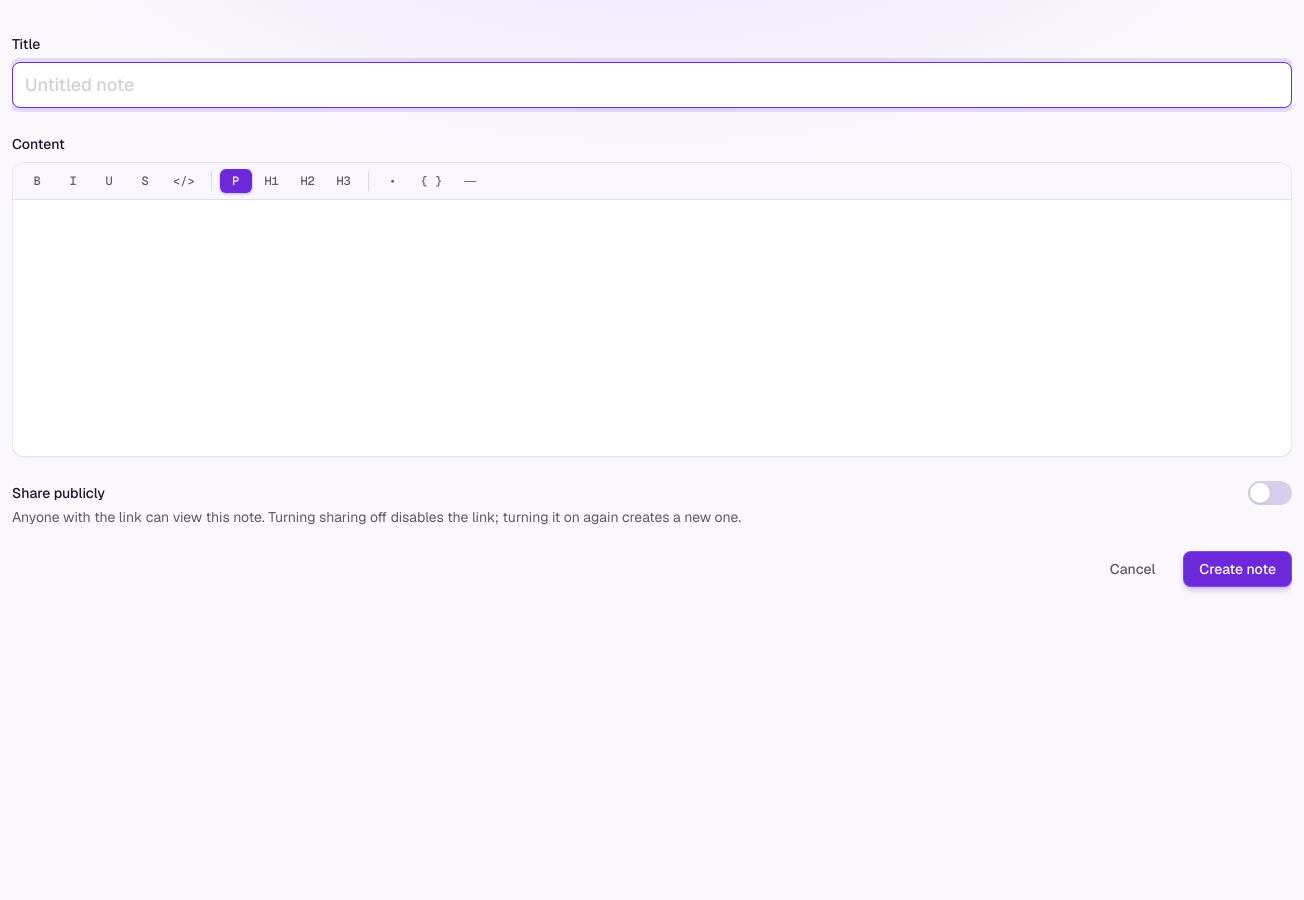
Scenario: NoteForm (create) › shows returned errors and keeps the rejected values
Click the button "Create note" at (1238, 569), box [1183, 551, 1292, 587]
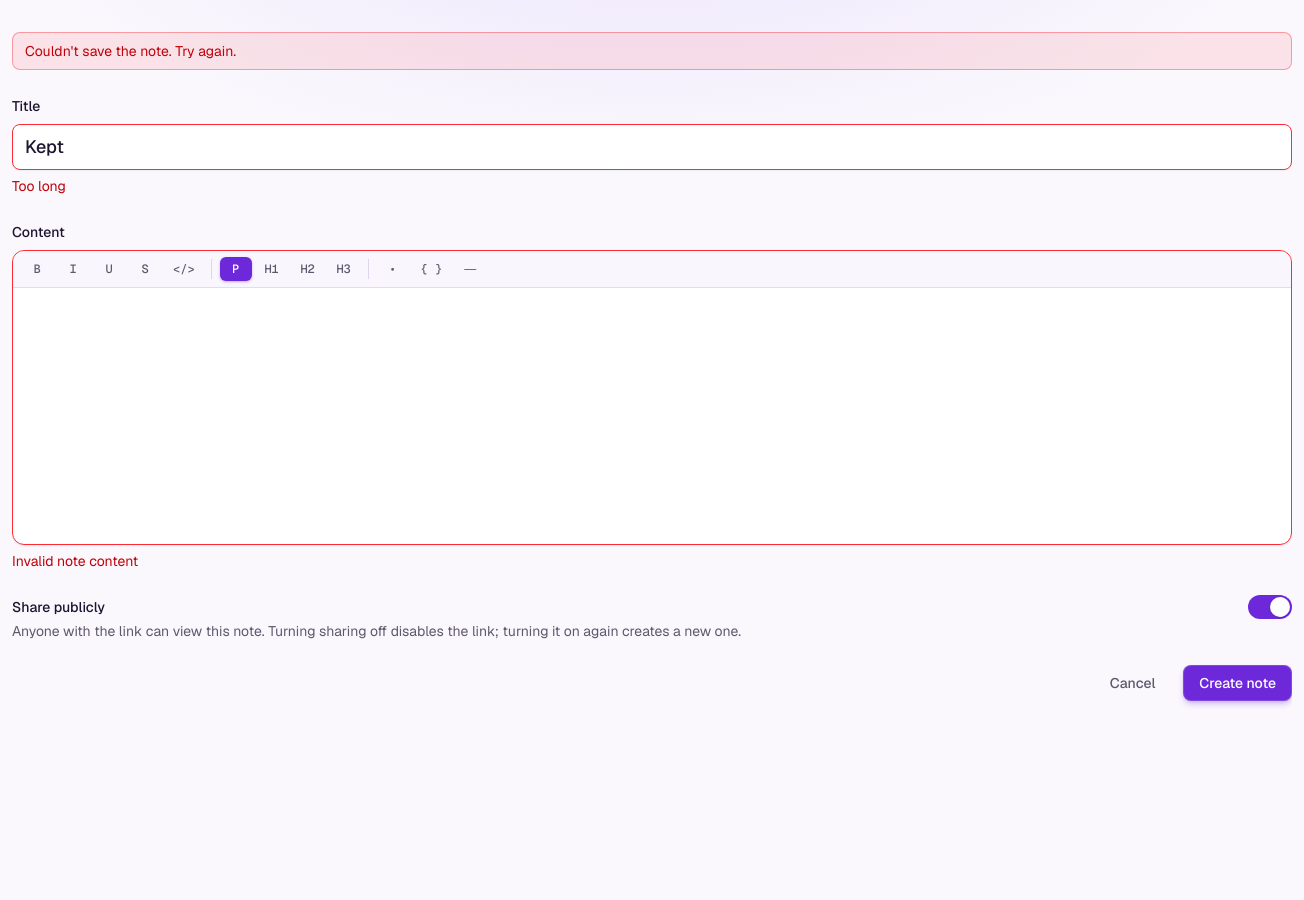
Expected: the message reads "Couldn't save the note. Try again.", [25, 42, 236, 60]
Expected: the text "Too long" is shown, [12, 177, 66, 195]
Expected: the field labelled "Title" holds "Kept", [12, 124, 1292, 170]
